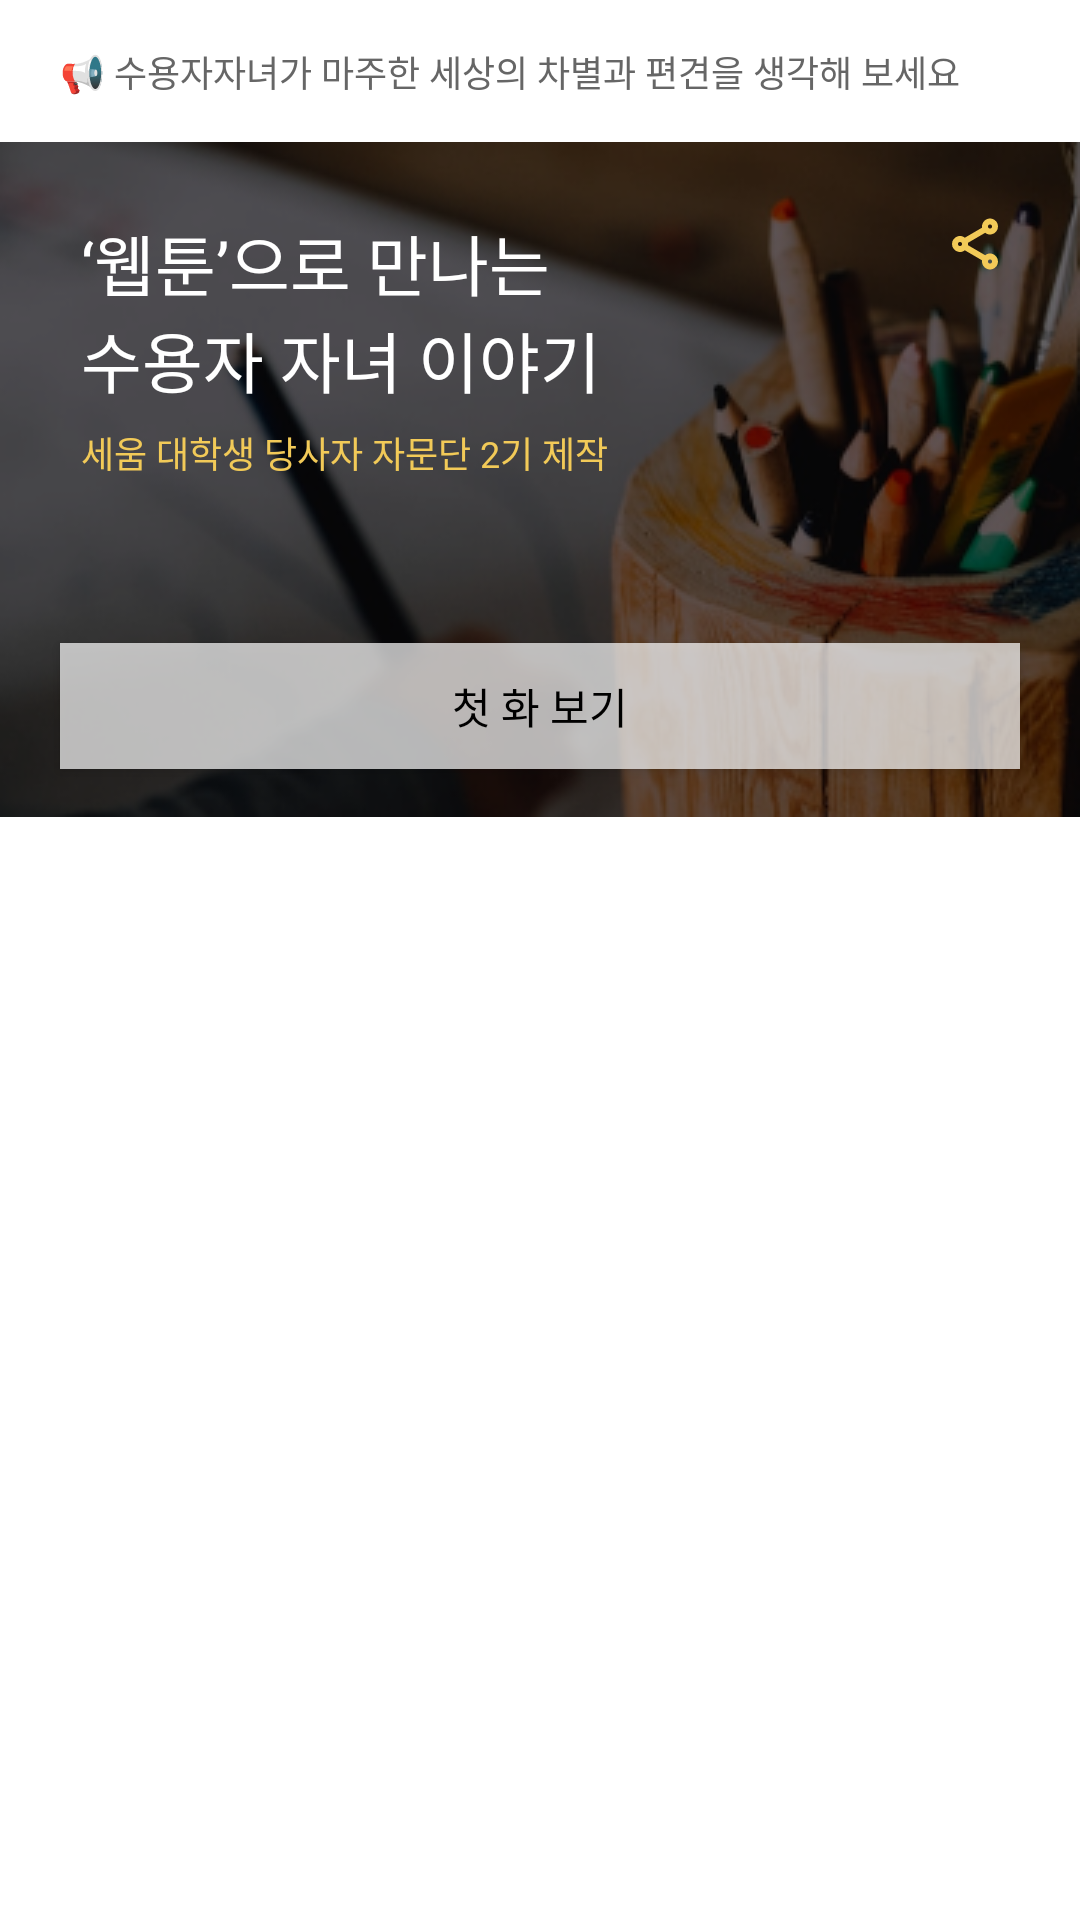

Where to tap for icons on this 1080x1920 app screen, as (x=x, y=y):
share: (x=978, y=246)
